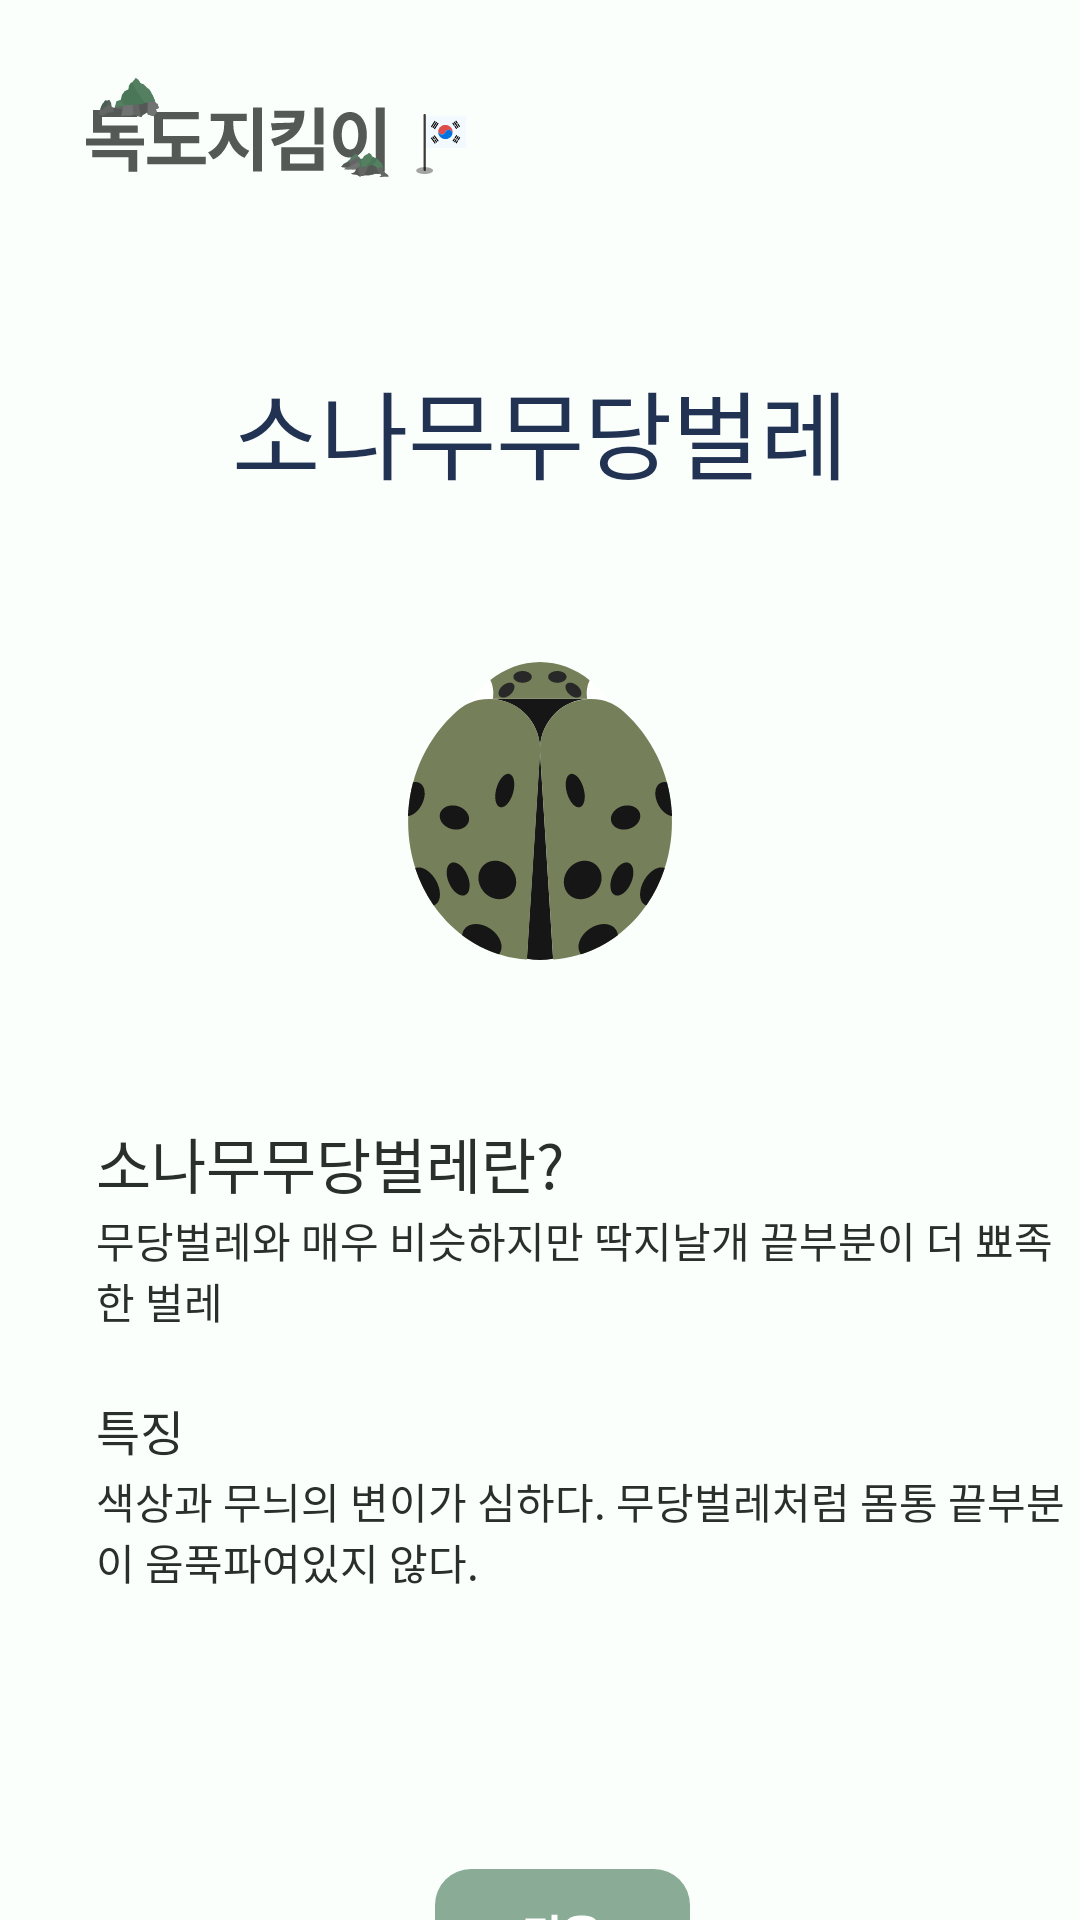

Icon click points for this 1080x1920 phone screenshot, format (x,y):
insect: (540,811)
